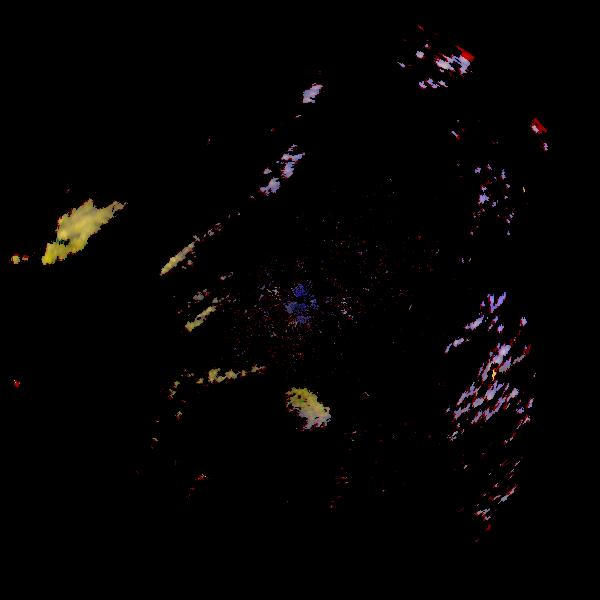roost: (276, 384, 321, 429), (290, 397, 332, 439)
